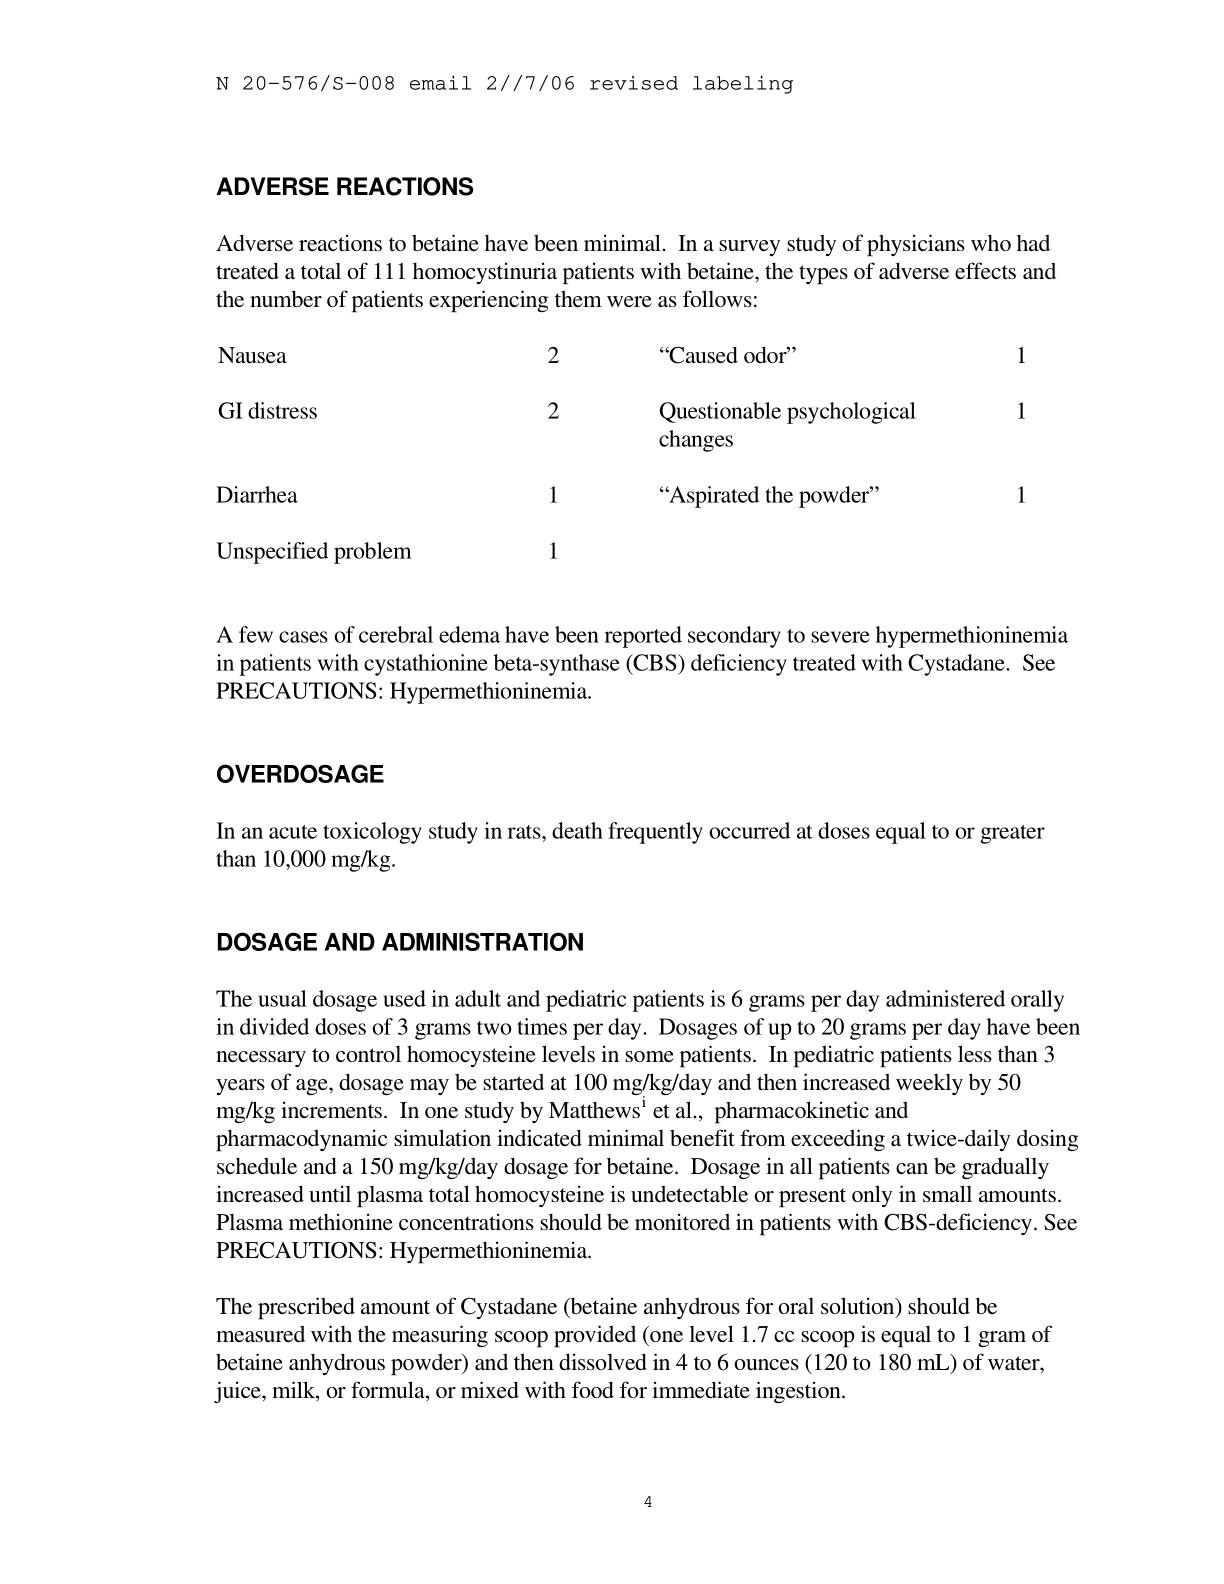nolines: (215, 341, 1032, 568)
